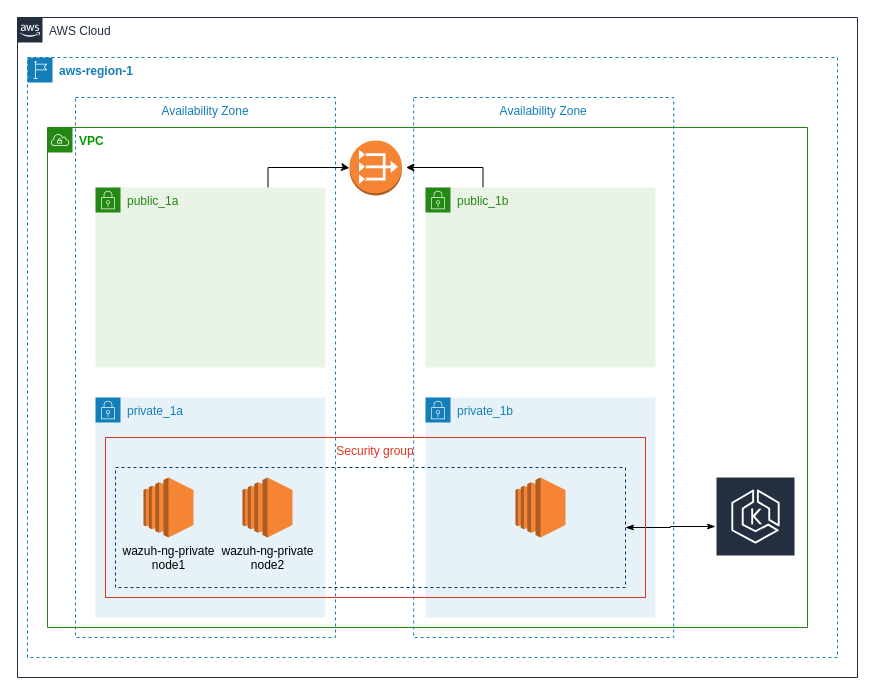
The diagram is 875 pixels wide and 695 high, and some of its shapes have lost their labels. Each missing label, with the centre of its shape:
"EKS Cluster" belongs at [755,526].
"IGW" belongs at [375,168].
"wazuh-ng-private node3" belongs at [540,507].
